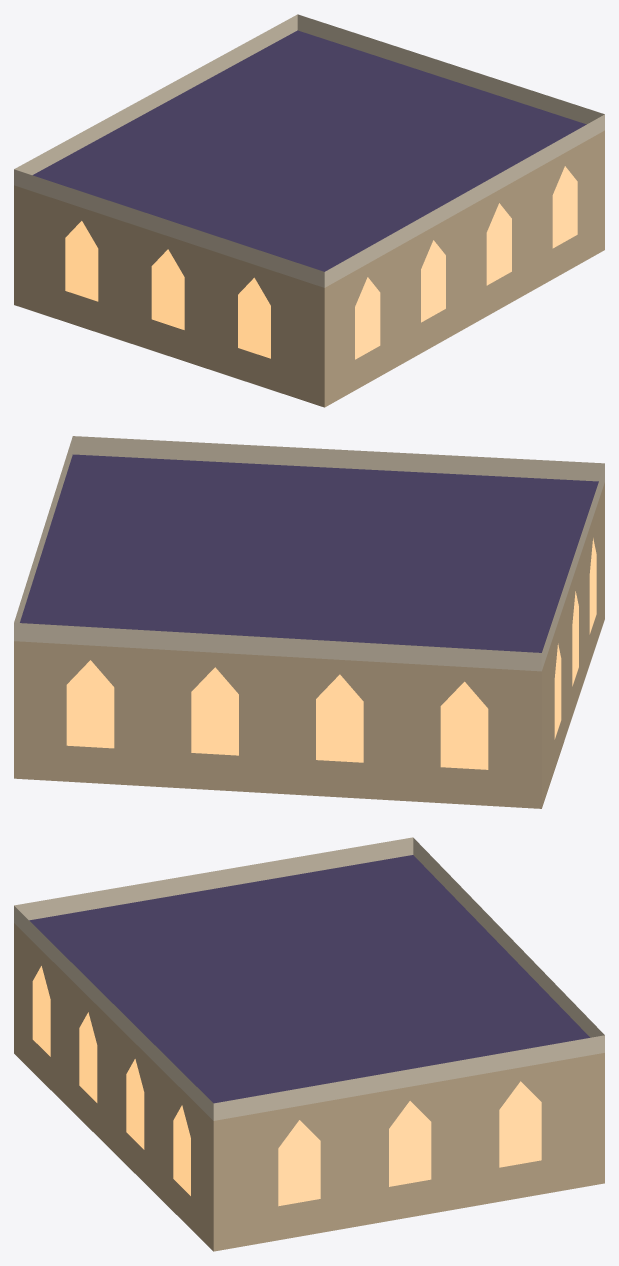
The picture shows the model from 3 angles, top to bottom: view 1: azimuth 30°, elevation 25°; view 2: azimuth 150°, elevation 25°; view 3: azimuth 270°, elevation 25°; orthographic projection. The views are drawn at different scales.
Parts seen in each view (by area): view 1: campus/b-029-0; view 2: campus/b-029-0; view 3: campus/b-029-0.
Boxes of the visible parts, box(x1,y1,x2,y2) form: campus/b-029-0: box(14, 14, 604, 407); campus/b-029-0: box(14, 436, 604, 808); campus/b-029-0: box(14, 837, 604, 1251).
Size of the model in its own units: 17.91 by 4.65 by 16.81.
